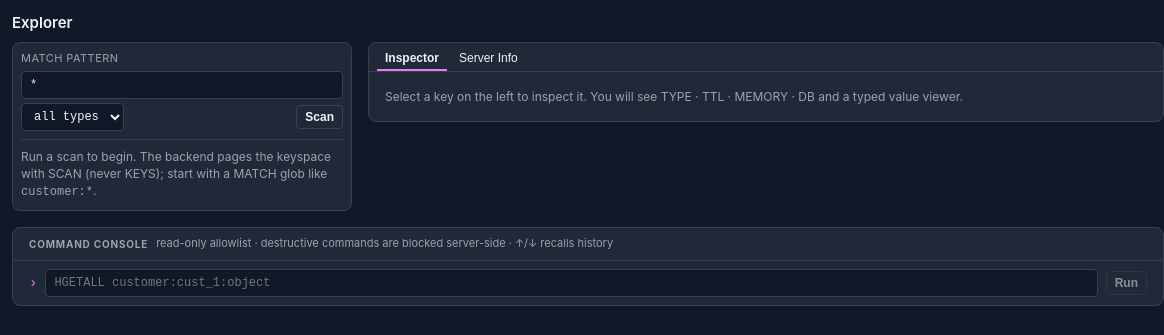
Scenario: key scan (SCAN paging, no seed) › renders an explicit "0 keys matched" on an empty completed scan
Click the button with test id "explorer-scan" at (320, 117), box x1=296 y1=105 x2=343 y2=129
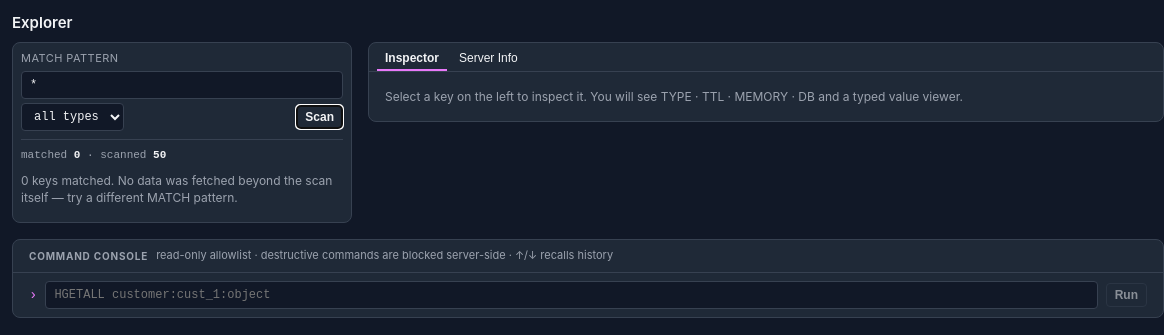
Expected: the text with test id "explorer-scan-empty" shows "0 keys matched", x1=21 y1=173 x2=332 y2=205
